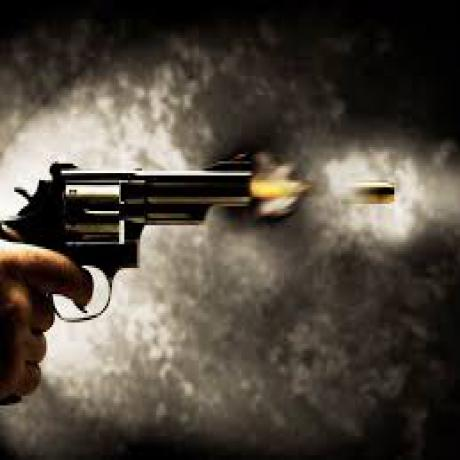Guns: (3, 148, 278, 372)
